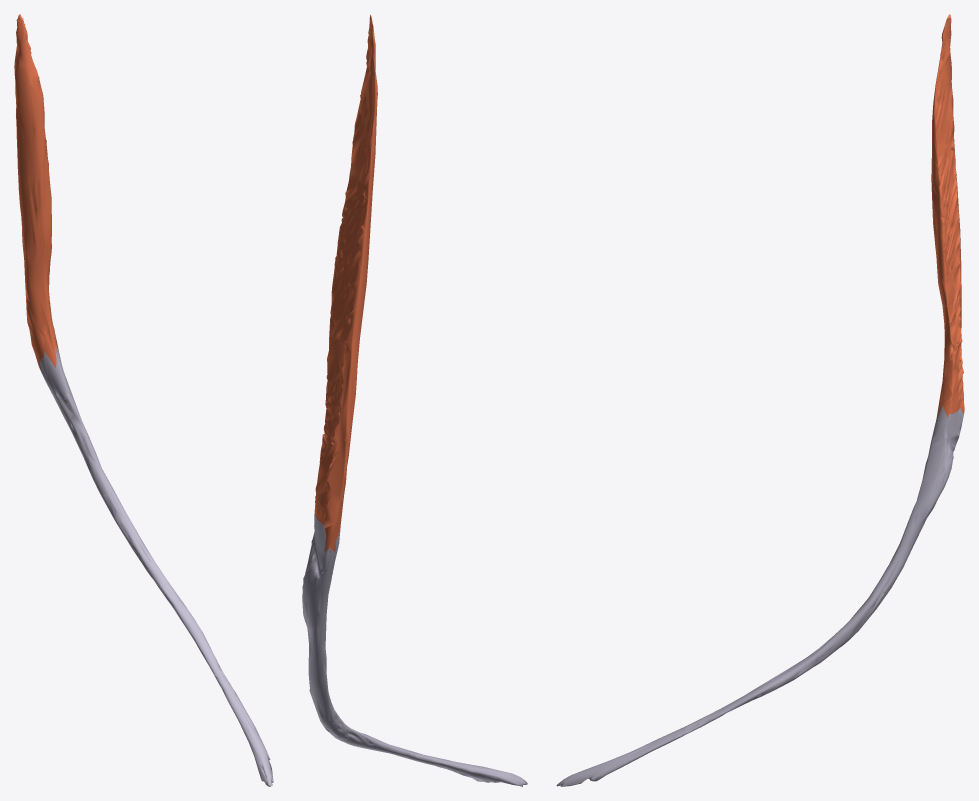
The model's file is Extensor_hallucis_longus.r_Generated_Mesh_From_X3D.969.glb.
3 renders of one model, left to right at view 1: azimuth 30°, elevation 25°; view 2: azimuth 150°, elevation 25°; view 3: azimuth 270°, elevation 25°, orthographic. The views are drawn at different scales.
Visible parts, largest first — view 1: Extensor_hallucis_longus.r_Generated_Mesh_From_X3D.969; view 2: Extensor_hallucis_longus.r_Generated_Mesh_From_X3D.969; view 3: Extensor_hallucis_longus.r_Generated_Mesh_From_X3D.969.
Boxes of the visible parts, x1,y1,x2,y2 form: Extensor_hallucis_longus.r_Generated_Mesh_From_X3D.969: (14, 14, 273, 786); Extensor_hallucis_longus.r_Generated_Mesh_From_X3D.969: (302, 14, 527, 786); Extensor_hallucis_longus.r_Generated_Mesh_From_X3D.969: (556, 14, 964, 786).
Size of the model in its own units: 0.0428 by 0.2805 by 0.1418.
